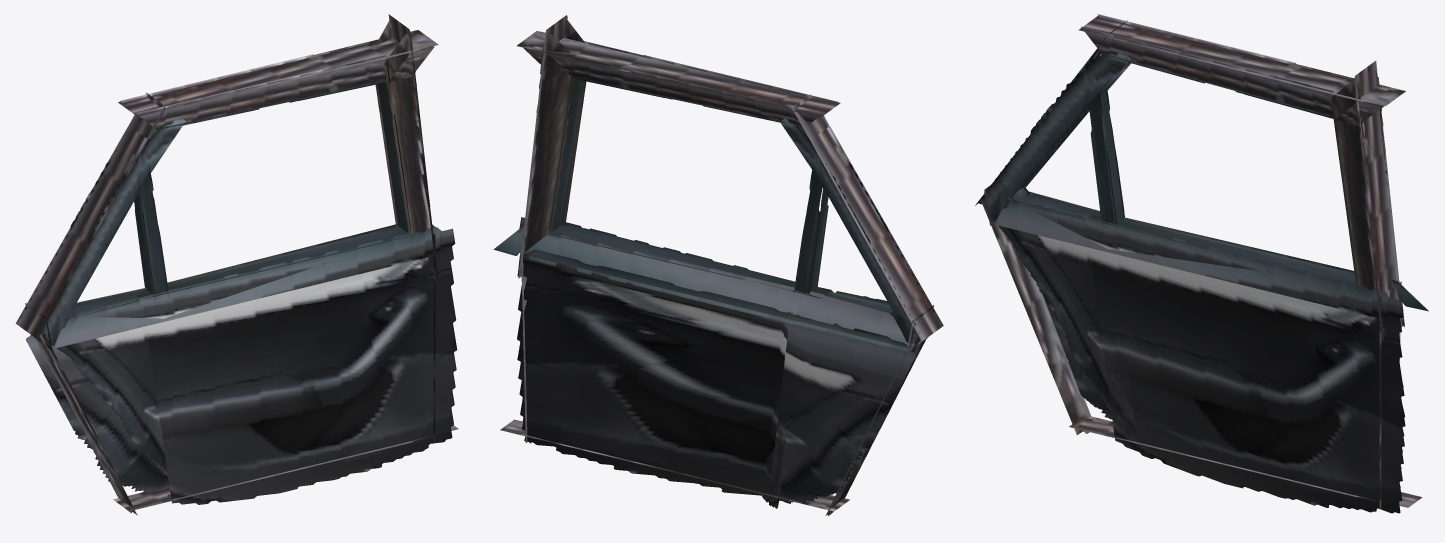
The model's file is .fbx_mdl_car_door.fbx.
3 views of the same model, side by side, from view 1: azimuth 30°, elevation 25°; view 2: azimuth 150°, elevation 25°; view 3: azimuth 330°, elevation 25° (orthographic).
Parts seen in each view (by area): view 1: mdl_car_door; view 2: mdl_car_door; view 3: mdl_car_door.
Boxes of the visible parts, <box> form: mdl_car_door: <box>15,14,458,515</box>; mdl_car_door: <box>493,15,943,515</box>; mdl_car_door: <box>975,14,1428,513</box>.
Bounding box in the file's own units: 287 × 276 × 25.22.
